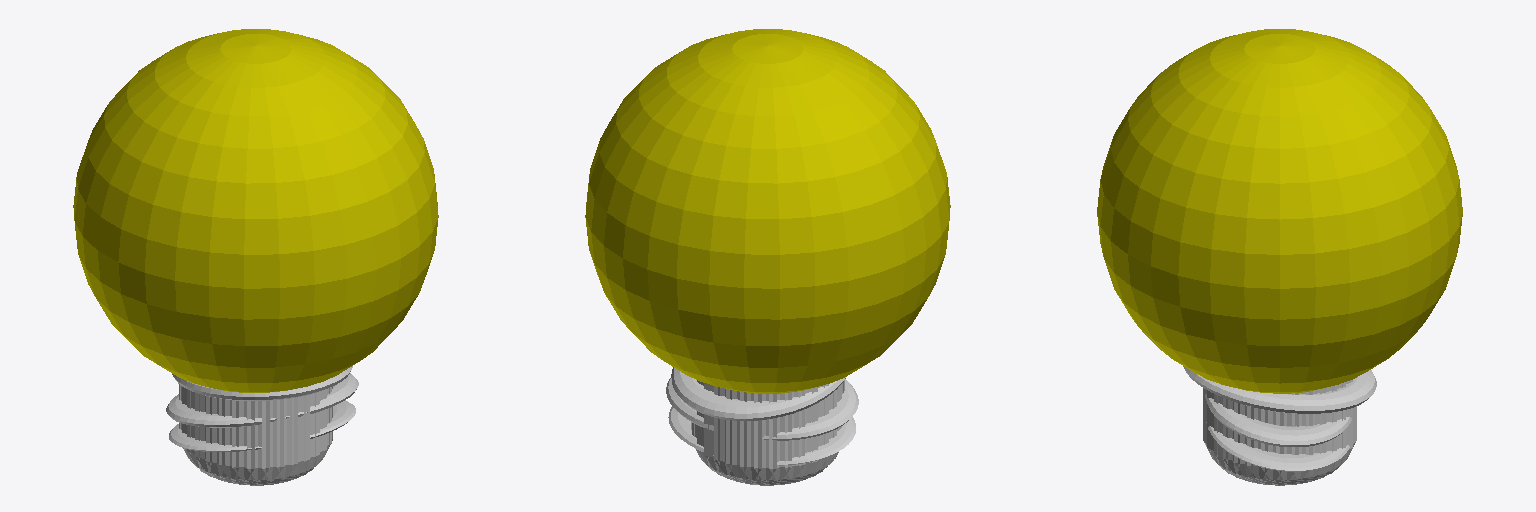
Rendered from gloeilamp.obj.
The picture shows the model from 3 angles: view 1: azimuth 30°, elevation 25°; view 2: azimuth 150°, elevation 25°; view 3: azimuth 270°, elevation 25°; orthographic projection.
Visible parts, largest first — view 1: Sphere.001_Sphere.002, Cylinder, Torus.000_Torus.004, Torus.003, Torus.001_Torus.005; view 2: Sphere.001_Sphere.002, Cylinder, Torus.003, Torus.000_Torus.004, Torus.001_Torus.005; view 3: Sphere.001_Sphere.002, Cylinder, Torus.003, Torus.000_Torus.004, Torus.001_Torus.005.
Part boxes in pixels (bbox=[...]): Sphere.001_Sphere.002: bbox=[73, 29, 438, 392]; Cylinder: bbox=[179, 384, 332, 485]; Torus.000_Torus.004: bbox=[166, 373, 358, 427]; Torus.003: bbox=[172, 366, 352, 400]; Torus.001_Torus.005: bbox=[169, 400, 355, 451]; Sphere.001_Sphere.002: bbox=[585, 29, 950, 393]; Cylinder: bbox=[691, 380, 844, 485]; Torus.003: bbox=[671, 367, 845, 420]; Torus.000_Torus.004: bbox=[666, 378, 858, 440]; Torus.001_Torus.005: bbox=[668, 406, 855, 465]; Sphere.001_Sphere.002: bbox=[1097, 29, 1462, 393]; Cylinder: bbox=[1203, 380, 1356, 485]; Torus.003: bbox=[1183, 366, 1376, 413]; Torus.000_Torus.004: bbox=[1205, 394, 1351, 446]; Torus.001_Torus.005: bbox=[1206, 422, 1349, 471].
Size of the model in its own units: 2.05 by 2.6 by 2.05.